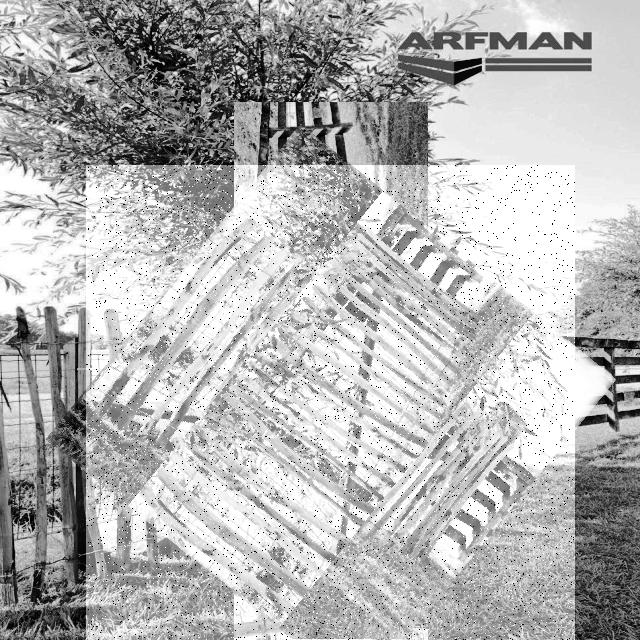fences: (86, 165, 575, 640)
